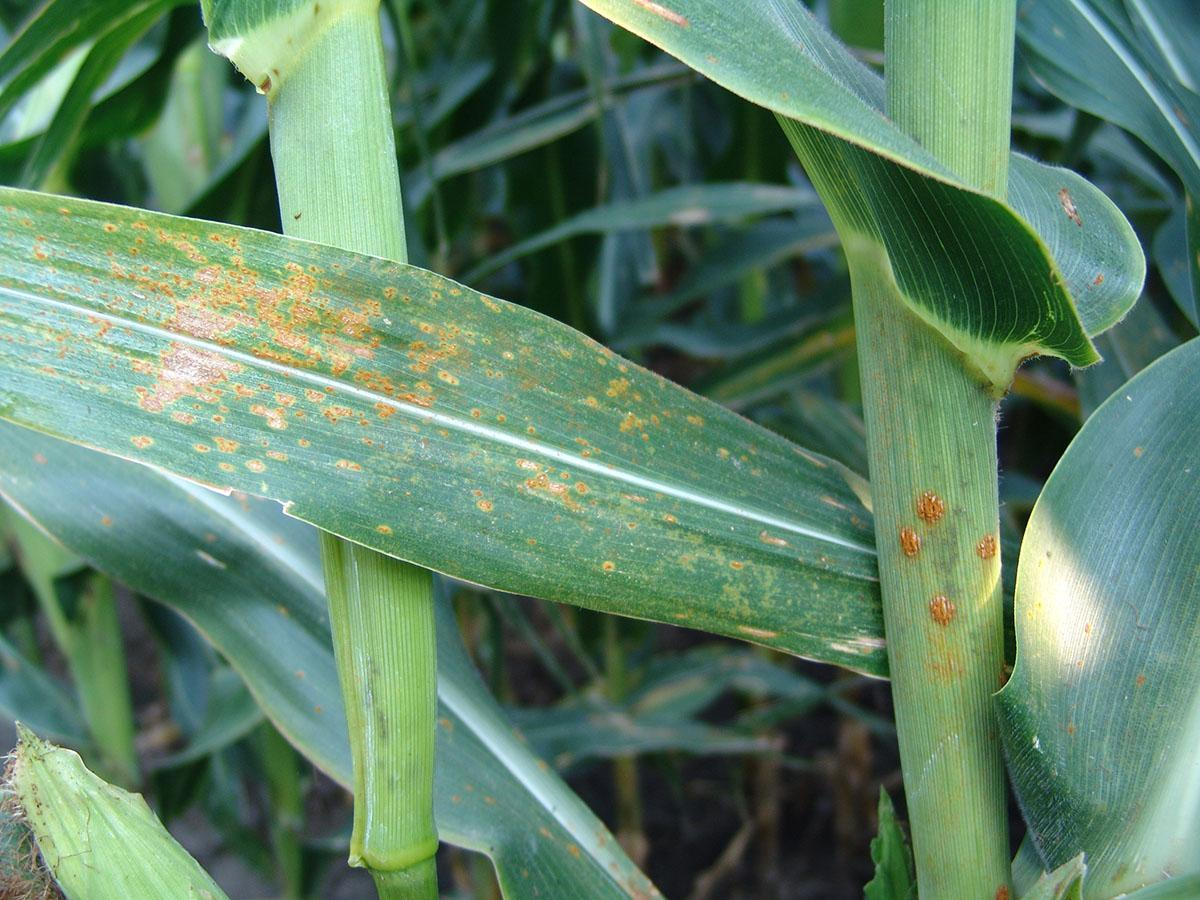Corn_Common_Rust: (527, 344, 886, 681), (261, 241, 541, 601), (0, 179, 270, 495), (471, 690, 708, 900), (867, 456, 996, 703), (1036, 556, 1102, 669), (237, 663, 337, 737), (627, 0, 713, 74), (1124, 400, 1172, 500), (1052, 723, 1117, 793), (991, 0, 1106, 39), (1097, 857, 1200, 900), (227, 50, 306, 106), (1161, 156, 1195, 278), (1077, 253, 1113, 310), (1041, 179, 1073, 233), (1126, 678, 1183, 708), (973, 880, 1041, 900), (1011, 128, 1025, 135)
